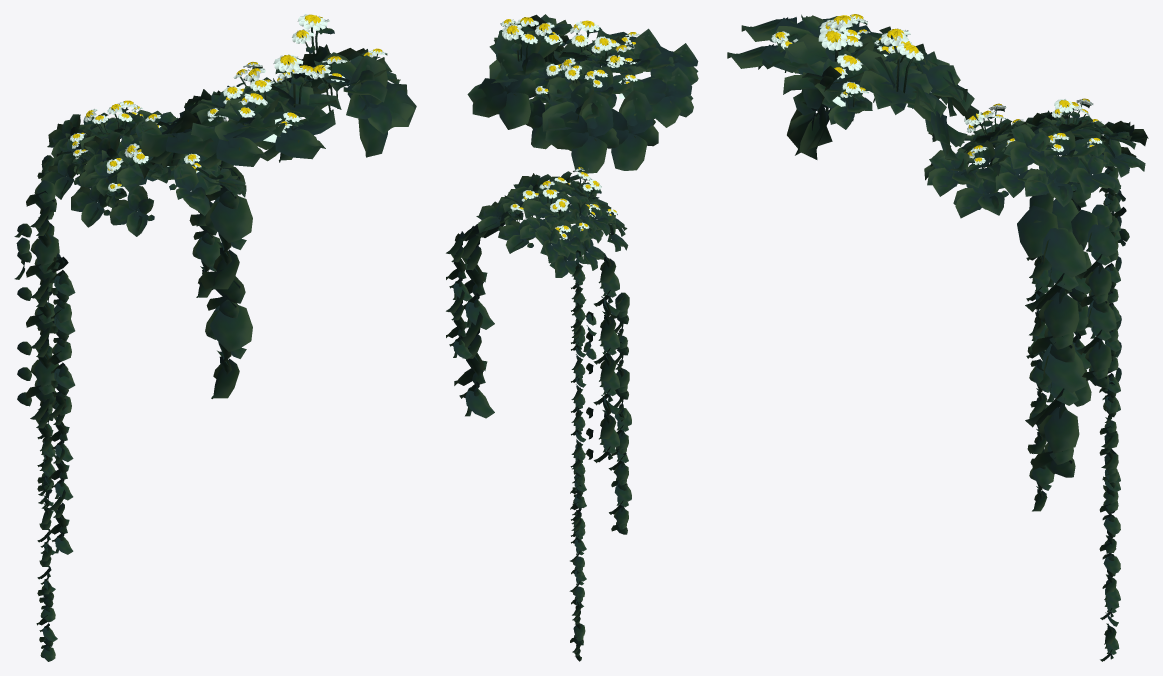
Rendered from fleur robot.fbx.
The picture shows the model from 3 angles, left to right: view 1: azimuth 30°, elevation 25°; view 2: azimuth 150°, elevation 25°; view 3: azimuth 270°, elevation 25°; orthographic projection. The views are drawn at different scales.
Parts seen in each view (by area): view 1: Plane.009, Cylinder.022; view 2: Plane.009, Cylinder.022; view 3: Plane.009, Cylinder.022.
Part boxes in pixels (bbox=[...]): Plane.009: bbox=[14, 100, 252, 661]; Cylinder.022: bbox=[140, 14, 416, 178]; Plane.009: bbox=[446, 167, 631, 661]; Cylinder.022: bbox=[467, 14, 698, 173]; Plane.009: bbox=[924, 98, 1148, 661]; Cylinder.022: bbox=[727, 14, 982, 160].
Size of the model in its own units: 182 by 444 by 237.
Materials: 3 (1 with a texture image).
